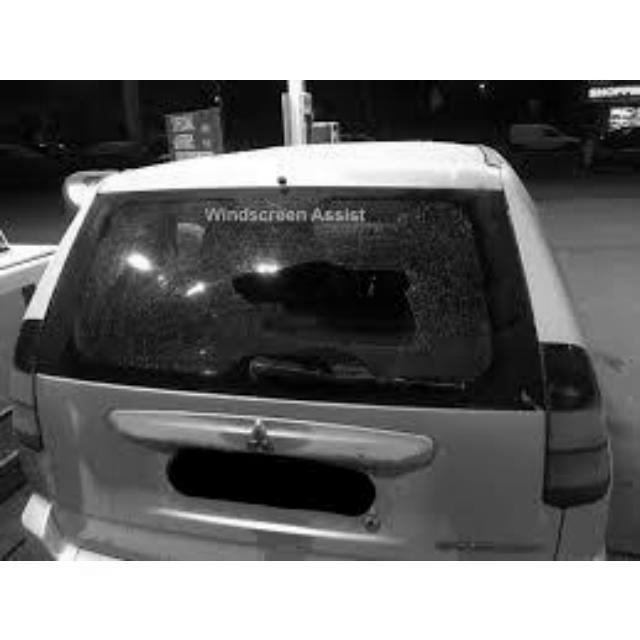Rear-windscreen-Damage: (58, 184, 539, 403)
